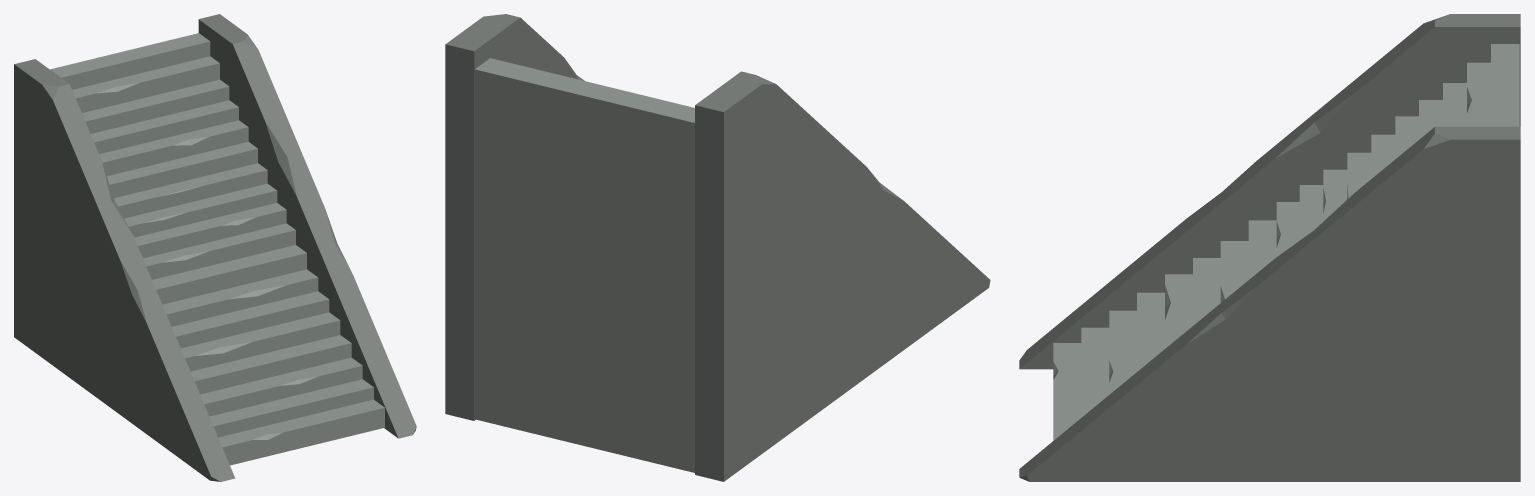
The model's file is SM_Env_Stair_05.fbx.
3 views of the same model, side by side, from view 1: azimuth 30°, elevation 25°; view 2: azimuth 150°, elevation 25°; view 3: azimuth 270°, elevation 25° (orthographic). The views are drawn at different scales.
Parts seen in each view (by area): view 1: SM_Env_Stair_05; view 2: SM_Env_Stair_05; view 3: SM_Env_Stair_05.
Boxes of the visible parts, x1,y1,x2,y2 form: SM_Env_Stair_05: (14, 14, 416, 481); SM_Env_Stair_05: (445, 14, 990, 481); SM_Env_Stair_05: (1019, 14, 1520, 481).
Bounding box in the file's own units: 118 × 150 × 199.
Materials: 1 (1 with a texture image).
